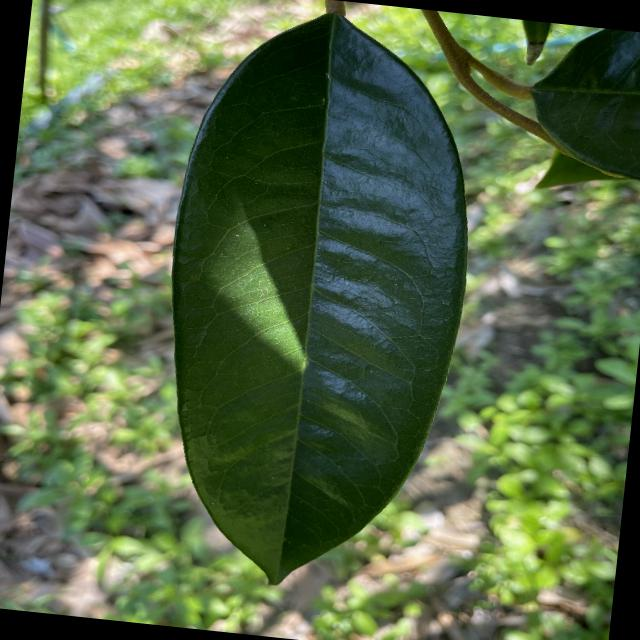No Disease: (130, 0, 498, 615)
